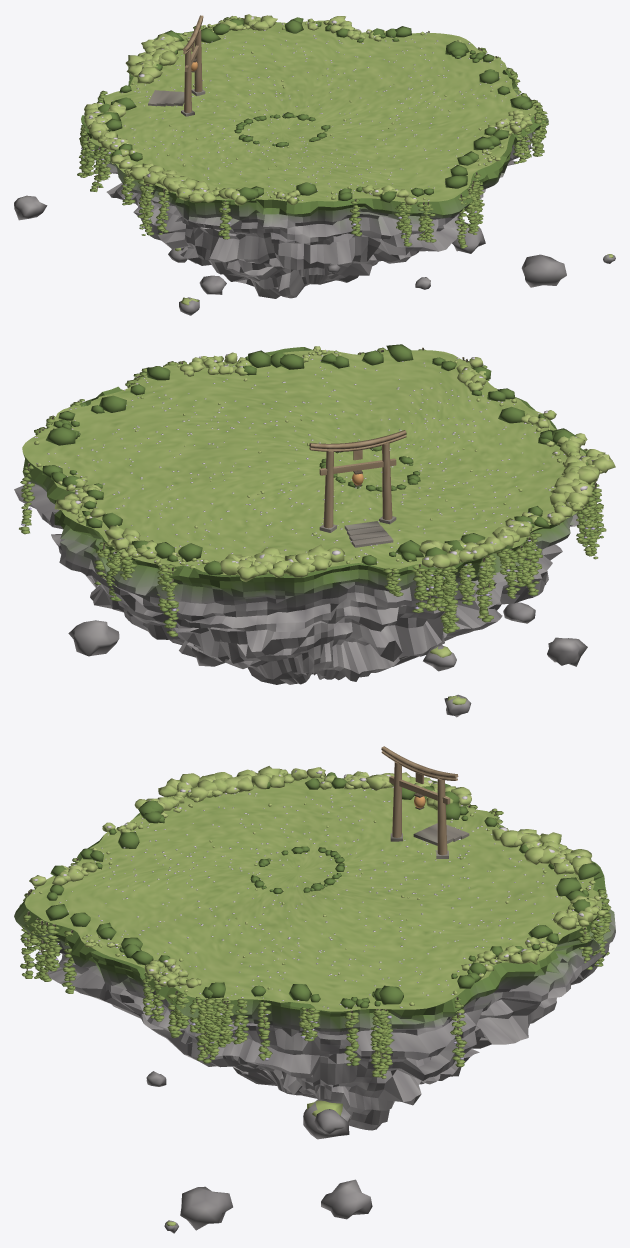
The model's file is meadow_a.glb.
The picture shows the model from 3 angles, top to bottom: view 1: azimuth 30°, elevation 25°; view 2: azimuth 150°, elevation 25°; view 3: azimuth 270°, elevation 25°; orthographic projection. The views are drawn at different scales.
Visible parts, largest first — view 1: Island, RimShrubs, VineLeaves, ScatterRocks, FloatRock, Flowers, Torii, ToriiSteps; view 2: Island, RimShrubs, VineLeaves, ScatterRocks, FloatRock, Torii, Flowers, ToriiSteps, RimBlossom; view 3: Island, RimShrubs, VineLeaves, ScatterRocks, FloatRock, Torii, Flowers.
Part boxes in pixels (bbox=[...]): Island: bbox=[81, 20, 548, 298]; RimShrubs: bbox=[84, 14, 532, 205]; VineLeaves: bbox=[77, 17, 548, 248]; ScatterRocks: bbox=[97, 17, 532, 202]; FloatRock: bbox=[14, 195, 615, 315]; Flowers: bbox=[111, 23, 529, 200]; Torii: bbox=[181, 15, 205, 116]; ToriiSteps: bbox=[148, 90, 184, 106]; Island: bbox=[14, 347, 598, 684]; RimShrubs: bbox=[54, 346, 615, 581]; VineLeaves: bbox=[19, 347, 606, 636]; ScatterRocks: bbox=[42, 344, 587, 574]; FloatRock: bbox=[68, 602, 587, 717]; Torii: bbox=[309, 430, 406, 532]; Flowers: bbox=[34, 350, 564, 565]; ToriiSteps: bbox=[344, 521, 393, 547]; RimBlossom: bbox=[73, 352, 608, 567]; Island: bbox=[14, 773, 615, 1130]; RimShrubs: bbox=[29, 766, 605, 988]; VineLeaves: bbox=[19, 804, 611, 1078]; ScatterRocks: bbox=[45, 772, 599, 1008]; FloatRock: bbox=[146, 1071, 372, 1233]; Torii: bbox=[381, 746, 458, 858]; Flowers: bbox=[33, 786, 590, 1008].
Bounding box in the file's own units: 35.23 × 17.19 × 30.24.
